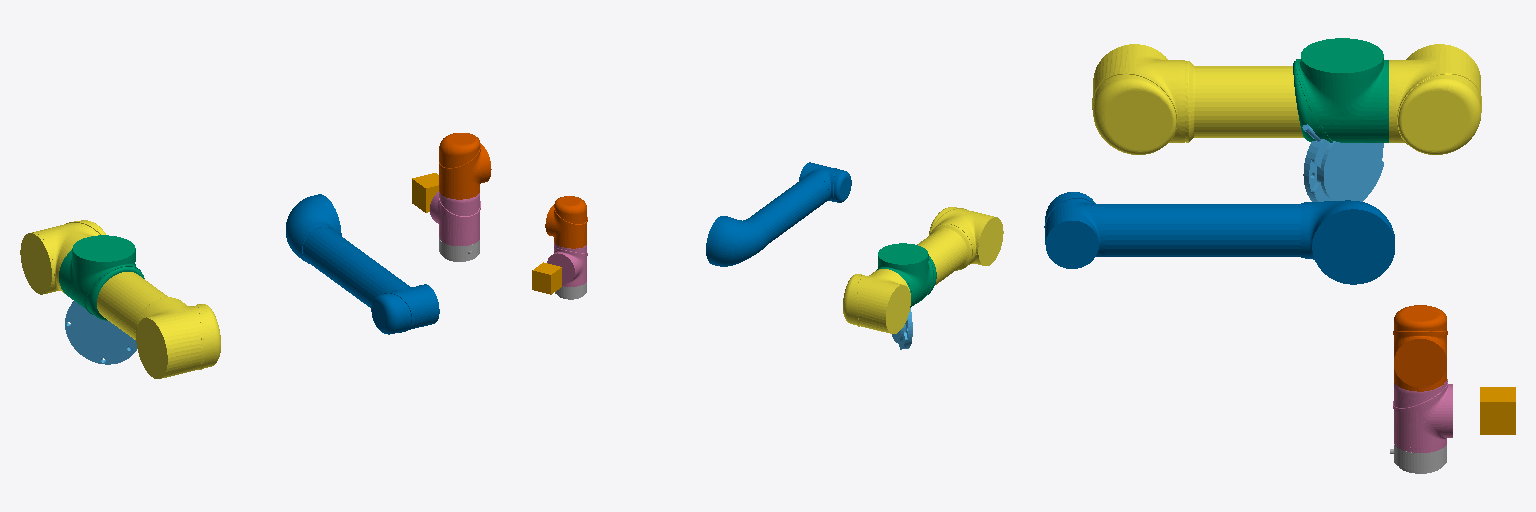
robot.urdf — universal-robot-ur5:
<?xml version="1.0" ?>
<!-- =================================================================================== -->
<!-- |    This document was autogenerated by xacro from ur5_robot.urdf.xacro           | -->
<!-- |    EDITING THIS FILE BY HAND IS NOT RECOMMENDED                                 | -->
<!-- |    Forked from: https://github.com/cpaxton/universal_robot                      | -->
<!-- |    Origin from: https://github.com/ros-industrial/universal_robot               | -->
<!-- =================================================================================== -->
<robot name="universal-robot-ur5" xmlns:controller="http://playerstage.sourceforge.net/gazebo/xmlschema/#controller" xmlns:interface="http://playerstage.sourceforge.net/gazebo/xmlschema/#interface" xmlns:sensor="http://playerstage.sourceforge.net/gazebo/xmlschema/#sensor" xmlns:xacro="http://ros.org/wiki/xacro">
  <material name="UR/Blue">
    <color rgba="0.0 0.0 0.8 1.0"/>
  </material>
  <material name="UR/Grey">
    <color rgba="0.7 0.7 0.7 1.0"/>
  </material>
 

<!-- world -->
  <!-- Used for fixing robots 'base_link' to Gazebos 'world' -->
  <link name="world"/>
  <joint name="world_base_joint" type="fixed">
    <parent link="world"/>
    <child link="base_link"/>
    <origin rpy="0.0 0.0 0.0" xyz="0.0 0.0 0.01"/>
  </joint>
<!-- arm -->
  <link name="base_link">
    <visual>
      <geometry>
        <mesh filename="package://UR5_Robot/meshes/ur5/visual/Base.stl"/>
      </geometry>
      <origin rpy="0.0 0.0 2.3561944875" xyz="0.0 0.0 0.0"/>
    </visual>
    <collision>
      <geometry>
        <mesh filename="package://UR5_Robot/meshes/ur5/collision/Base.dae"/>
      </geometry>
      <!-- <origin rpy="0.0 0.0 0.0" xyz="0.0 0.0 -0.009159"/> -->
    </collision>
    <inertial>
      <mass value="4.0"/>
      <inertia ixx="0.004433" ixy="0.0" ixz="0.0" iyy="0.00443333156" iyz="0.0" izz="0.0072"/>
    </inertial>
  </link> 
<!-- <inertia ixx="0.0833333 * 4.0 * (3 * 0.06 * 0.06 + 0.05 * 0.05)" ixy="0.0" ixz="0.0"
        iyy="0.0833333 * 4.0 * (3 * 0.06 * 0.06 + 0.05 * 0.05)" iyz="0.0"
        izz="0.5 * 4.0 * 0.06 * 0.06" /> -->
  <joint name="shoulder_pan_joint" type="revolute">
    <parent link="base_link"/>
    <child link="shoulder_link"/>
    <origin rpy="0.0 0.0 0.0" xyz="0.0 0.0 0.089159"/>
    <axis xyz="0 0 1"/>
    <limit effort="150.0" lower="-6.2831853" upper="6.2831853" velocity="3.14159265"/>
    <dynamics damping="0.0" friction="0.0"/>
  </joint>
  <link name="shoulder_link">
    <visual>
      <geometry>
        <mesh filename="package://UR5_Robot/meshes/ur5/visual/Shoulder.stl"/>
      </geometry>
    </visual>
    <collision>
      <geometry>
        <mesh filename="package://UR5_Robot/meshes/ur5/collision/Shoulder.dae"/>
      </geometry>
      <!-- <origin rpy="0.0 0.0 0.0" xyz="0.0 0.0 -0.009159"/> -->
    </collision>
    <inertial>
      <mass value="3.7"/>
      <inertia ixx="0.010267495893" ixy="0.0" ixz="0.0" iyy="0.010267495893" iyz="0.0" izz="0.00666"/>
 	    <origin rpy="0.0 0.0 0.0" xyz="0.0 0.00193 -0.02561"/>
    </inertial>
  </link>
<!--<inertia ixx="0.0833333 * 3.7 * (3 * 0.06 * 0.06 + 0.15 * 0.15)" ixy="0.0" ixz="0.0"
        iyy="0.0833333 * 3.7 * (3 * 0.06 * 0.06 + 0.15 * 0.15)" iyz="0.0"
        izz="0.5 * 3.7 * 0.06 * 0.06" /> -->
  <joint name="shoulder_lift_joint" type="revolute">
    <parent link="shoulder_link"/>
    <child link="upper_arm_link"/>
    <origin rpy="0.0 1.570796325 0.0" xyz="0.0 0.13585 0.0"/>
    <axis xyz="0 1 0"/>
    <limit effort="150.0" lower="-6.2831853" upper="6.2831853" velocity="3.14159265"/>
    <dynamics damping="0.0" friction="0.0"/>
  </joint>
  <link name="upper_arm_link">
    <visual>
      <geometry>
        <mesh filename="package://UR5_Robot/meshes/ur5/visual/UpperArm.stl"/>
      </geometry>
      <origin rpy="0.0 0.0 0.0" xyz="0.0 0.0 0.0"/>
    </visual>
    <collision>
      <geometry>
        <mesh filename="package://UR5_Robot/meshes/ur5/collision/UpperArm.dae"/>
      </geometry>
      <!--       <origin rpy="0.0 0.0 0.0" xyz="0.0 0.0 0.2125"/> -->
    </collision>
    <inertial>
      <mass value="8.393"/>
      <inertia ixx="0.22689067591036" ixy="0.0" ixz="0.0" iyy="0.22689067591036" iyz="0.0" izz="0.0151074" />
      <origin rpy="0.0 0.0 0.0" xyz="0.0 -0.024201 0.2125"/>  
      </inertial>
  </link>
 <!--    <inertia ixx="0.0833333 * 8.393 * (3 * 0.06 * 0.06 + 0.56 * 0.56)" ixy="0.0" ixz="0.0"
        iyy="0.0833333 * 8.393 * (3 * 0.06 * 0.06 + 0.56 * 0.56)" iyz="0.0"
        izz="0.5 * 8.393 * 0.06 * 0.06" />-->
  <joint name="elbow_joint" type="revolute">
    <parent link="upper_arm_link"/>
    <child link="forearm_link"/>
    <origin rpy="0.0 0.0 0.0" xyz="0.0 -0.1197 0.425"/>
    <axis xyz="0 1 0"/>
    <limit effort="150.0" lower="-6.2831853" upper="6.2831853" velocity="3.14159265"/>
    <dynamics damping="0.0" friction="0.0"/>
  </joint>
  <link name="forearm_link">
    <visual>
      <geometry>
        <mesh filename="package://UR5_Robot/meshes/ur5/visual/Forearm.stl"/>
      </geometry>
    </visual>
    <collision>
      <geometry>
        <mesh filename="package://UR5_Robot/meshes/ur5/collision/Forearm.dae"/>
      </geometry>
      <!--       <origin rpy="0.0 0.0 0.0" xyz="0.0 0.0 0.196125"/> -->
    </collision>
    <inertial>
      <mass value="2.275"/>
      <origin rpy="0.0 0.0 0.0" xyz="0.0 0.0265 0.11993"/>
       <inertia ixx="0.049443313556" ixy="0.0" ixz="0.0" iyy="0.049443313556" iyz="0.0" izz="0.004095" />
    </inertial>
  </link>
 <!--    <inertia ixx="0.0833333 * 2.275 * (3 * 0.06 * 0.06 + 0.5 * 0.5)" ixy="0.0" ixz="0.0"
        iyy="0.0833333 * 2.275 * (3 * 0.06 * 0.06 + 0.5 * 0.5)" iyz="0.0"
        izz="0.5 * 2.275 * 0.06 * 0.06" /> -->
  <joint name="wrist_1_joint" type="revolute">
    <parent link="forearm_link"/>
    <child link="wrist_1_link"/>
    <origin rpy="0.0 1.570796325 0.0" xyz="0.0 0.0 0.39225"/>
    <axis xyz="0 1 0"/>
    <limit effort="28.0" lower="-3.14159265" upper="4.71" velocity="3.14159265"/>
    <dynamics damping="0.0" friction="0.0"/>
  </joint>
  <link name="wrist_1_link">
    <visual>
      <geometry>
        <mesh filename="package://UR5_Robot/meshes/ur5/visual/Wrist1.stl"/>
      </geometry>
      <origin rpy="0.0 1.570796325 0.0" xyz="0.0 0.093 0.0"/>
    </visual>
    <collision>
      <geometry>
        <mesh filename="package://UR5_Robot/meshes/ur5/collision/Wrist1.dae"/>
      </geometry>
      <origin rpy="0.0 1.570796325 0.0" xyz="0.0 0.093 0.0"/>
    </collision>
    <inertial>
      <mass value="1.219"/>
      <origin rpy="0.0 0.0 0.0" xyz="0.0 0.110949 0.01634"/>   
      <inertia ixx="0.11117275553088" ixy="0.0" ixz="0.0" iyy="0.11117275553088" iyz="0.0" izz="0.21942" />
    </inertial>
  </link>
<!--    <inertia ixx="0.0833333 * 1.219 * (3 * 0.6 * 0.6 + 0.12 * 0.12)" ixy="0.0" ixz="0.0"
        iyy="0.0833333 * 1.219 * (3 * 0.6 * 0.6 + 0.12 * 0.12)" iyz="0.0"
        izz="0.5 * 1.219 * 0.6 * 0.6" /> -->
  <joint name="wrist_2_joint" type="revolute">
    <parent link="wrist_1_link"/>
    <child link="wrist_2_link"/>
    <origin rpy="0.0 0.0 0.0" xyz="0.0 0.093 0.0"/>
    <axis xyz="0 0 1"/>
    <limit effort="28.0" lower="-3.14159265" upper="4.71" velocity="3.14159265"/>
    <dynamics damping="0.0" friction="0.0"/>
  </joint>
  <link name="wrist_2_link">
    <visual>
      <geometry>
        <mesh filename="package://UR5_Robot/meshes/ur5/visual/Wrist2.stl"/>
      </geometry>
      <origin rpy="0.0 0.0 0.0" xyz="0.0 0.0 0.09465"/>
    </visual>
    <collision>
      <geometry>
        <mesh filename="package://UR5_Robot/meshes/ur5/collision/Wrist2.dae"/>
      </geometry>
      <origin rpy="0.0 0.0 0.0" xyz="0.0 0.0 0.09465"/>
    </collision>
    <inertial>
      <mass value="1.219"/>
      <origin rpy="0.0 0.0 0.0" xyz="0.0 0.0018 0.11099"/>  
      <inertia ixx="0.11117275553088" ixy="0.0" ixz="0.0" iyy="0.11117275553088" iyz="0.0" izz="0.21942" />
    </inertial>
  </link>
<!--    <inertia ixx="0.0833333 * 1.219 * (3 * 0.6 * 0.6 + 0.12 * 0.12)" ixy="0.0" ixz="0.0"
        iyy="0.0833333 * 1.219 * (3 * 0.6 * 0.6 + 0.12 * 0.12)" iyz="0.0"
        izz="0.5 * 1.219 * 0.6 * 0.6" /> -->
  <joint name="wrist_3_joint" type="revolute">
    <parent link="wrist_2_link"/>
    <child link="wrist_3_link"/>
    <origin rpy="0.0 0.0 0.0" xyz="0.0 0.0 0.09465"/>
    <axis xyz="0 1 0"/>
    <limit effort="28.0" lower="-3.14159265" upper="3.14159265" velocity="3.14159265"/>
    <dynamics damping="0.0" friction="0.0"/>
  </joint>
  <link name="wrist_3_link">
    <visual>
      <geometry>
        <mesh filename="package://UR5_Robot/meshes/ur5/visual/Wrist3.stl"/>
      </geometry>
    </visual>
    <collision>
      <geometry>
        <mesh filename="package://UR5_Robot/meshes/ur5/collision/Wrist3.dae"/>
      </geometry>
    </collision>
    <inertial>
      <mass value="0.1879"/>
      <origin rpy="0.0 0.0 0.0" xyz="0.0 0.001159 0.0"/>
      <inertia ixx="0.017136473145408" ixy="0.0" ixz="0.0" iyy="0.017136473145408" iyz="0.0" izz="0.033822" />
    </inertial>
  </link>
<!--     <inertia ixx="0.0833333 * 0.1879 * (3 * 0.6 * 0.6 + 0.12 * 0.12)" ixy="0.0" ixz="0.0"
        iyy="0.0833333 * 0.1879 * (3 * 0.6 * 0.6 + 0.12 * 0.12)" iyz="0.0"
        izz="0.5 * 0.1879 * 0.6 * 0.6" />-->

  <joint name="ee_fixed_joint" type="revolute">
    <parent link="wrist_3_link"/>
    <child link="ee_link"/>
    <origin rpy="0.0 0.0 1.570796325" xyz="0.0 0.0823 0.0"/>
    <axis xyz="0 1 0"/>
    <limit effort="0.0" lower="0" upper="0" velocity="0"/>
  </joint>
 <link name="ee_link">
    <collision>
      <origin xyz="0.025 0 0.0" rpy="0 0 0"/>
      <geometry>
        <box size="0.05 0.05 0.05"/>
      </geometry>
    </collision>
    <visual>
      <origin xyz="0.025 0 0.0" rpy="0 0 0"/>
      <geometry>
        <box size="0.05 0.05 0.05"/>
      </geometry>
    </visual>
    <inertial>
      <origin xyz="0.025 0.025 0.025" rpy="0 0 0"/>
      <mass value="0.00001"/>
      <inertia
        ixx="0.000000004" ixy="0.0" ixz="0.0"
        iyy="0.000000004" iyz="0.0"
        izz="0.000000004"/>
    </inertial>
<!--
     <mass value="5"/>
      <inertia
        ixx="0.002083333" ixy="0.0" ixz="0.0"
        iyy="0.002083333" iyz="0.0"
        izz="0.002083333"/>
    </inertial> -->
</link>
<!--
  <link name="ee_link">
	 <collision>
      <origin xyz="0.0 0 0.0" rpy="0 0 0"/>
      <geometry>
        <box size="0.0 0.0 0.0"/>
      </geometry>
    </collision>
    <visual>
      <origin xyz="0.0 0 0.0" rpy="0 0 0"/>
      <geometry>
        <box size="0.0 0.0 0.0"/>
      </geometry>
    </visual>
    <inertial>
      <origin xyz="0.0 0.0 0.0" rpy="0 0 0"/>
      <mass value="0"/>
      <inertia
        ixx="0.03" ixy="0.0" ixz="0.0"
        iyy="0.0" iyz="0.0"
        izz="0.0"/>
    </inertial>
  </link>
  <joint name="ee_object_joint" type="revolute">
	<parent link="ee_link"/>
	 <child link="object_link"/>
	 <origin rpy="0.0 0.0 0" xyz="0.0 0.0 0.0"/>
	 <axis xyz="0 1 0"/>
    	 <limit effort="0.0" lower="0" upper="0" velocity="0"/>	
  </joint>
  <link name="object_link">
    <collision>
      <origin xyz="0.025 0 0.0" rpy="0 0 0"/>
      <geometry>
        <box size="0.05 0.05 0.05"/>
      </geometry>
    </collision>
    <visual>
      <origin xyz="0.025 0 0.0" rpy="0 0 0"/>
      <geometry>
        <box size="0.05 0.05 0.05"/>
      </geometry>
    </visual>
    <inertial>
      <origin xyz="0.025 0.025 0.025" rpy="0 0 0"/>
      <mass value="5"/>
      <inertia
        ixx="0.002083333" ixy="0.0" ixz="0.0"
        iyy="0.002083333" iyz="0.0"
        izz="0.002083333"/>
    </inertial>
</link>-->

<!--  <xacro:ur_arm_transmission name=""/>-->
  <!--gazebo reference="universal_robot">
    <material>Gazebo/Blue</material>
  </gazebo-->
</robot>

--- Render facts (derived) ---
3 views of the same robot in one strip: view 1: azimuth 30°, elevation 25°; view 2: azimuth 150°, elevation 25°; view 3: azimuth 270°, elevation 25° (orthographic).
Model universal-robot-ur5 with 9 links and 8 joints (7 revolute, 1 fixed), rooted at world, posed every joint at zero.
Visible links, largest first — view 1: upper_arm_link, forearm_link, shoulder_link, wrist_1_link, base_link, wrist_2_link, ee_link, wrist_3_link; view 2: upper_arm_link, forearm_link, shoulder_link, wrist_1_link, wrist_2_link, ee_link; view 3: upper_arm_link, forearm_link, shoulder_link, base_link, wrist_1_link, wrist_2_link, ee_link, wrist_3_link.
Link boxes in pixels (x1,y1,x2,y2): upper_arm_link: (20, 220, 220, 378); forearm_link: (286, 194, 439, 334); shoulder_link: (59, 235, 144, 320); wrist_1_link: (439, 133, 491, 199); base_link: (65, 301, 136, 364); wrist_2_link: (430, 191, 480, 245); ee_link: (412, 173, 438, 212); wrist_3_link: (439, 238, 479, 261); upper_arm_link: (843, 207, 1003, 333); forearm_link: (706, 162, 851, 266); shoulder_link: (876, 243, 936, 307); wrist_1_link: (545, 196, 587, 248); wrist_2_link: (547, 242, 587, 286); ee_link: (532, 262, 561, 294); upper_arm_link: (1092, 44, 1481, 154); forearm_link: (1044, 192, 1394, 284); shoulder_link: (1293, 38, 1388, 142); base_link: (1302, 124, 1383, 201); wrist_1_link: (1393, 305, 1447, 391); wrist_2_link: (1393, 379, 1452, 452); ee_link: (1480, 387, 1515, 434); wrist_3_link: (1390, 444, 1446, 473).
Bounding box of the posed robot: 0.928 × 0.6565 × 0.2472 m (x, y, z).
7 mesh visuals loaded from 7 distinct referenced files (7 binary STL).